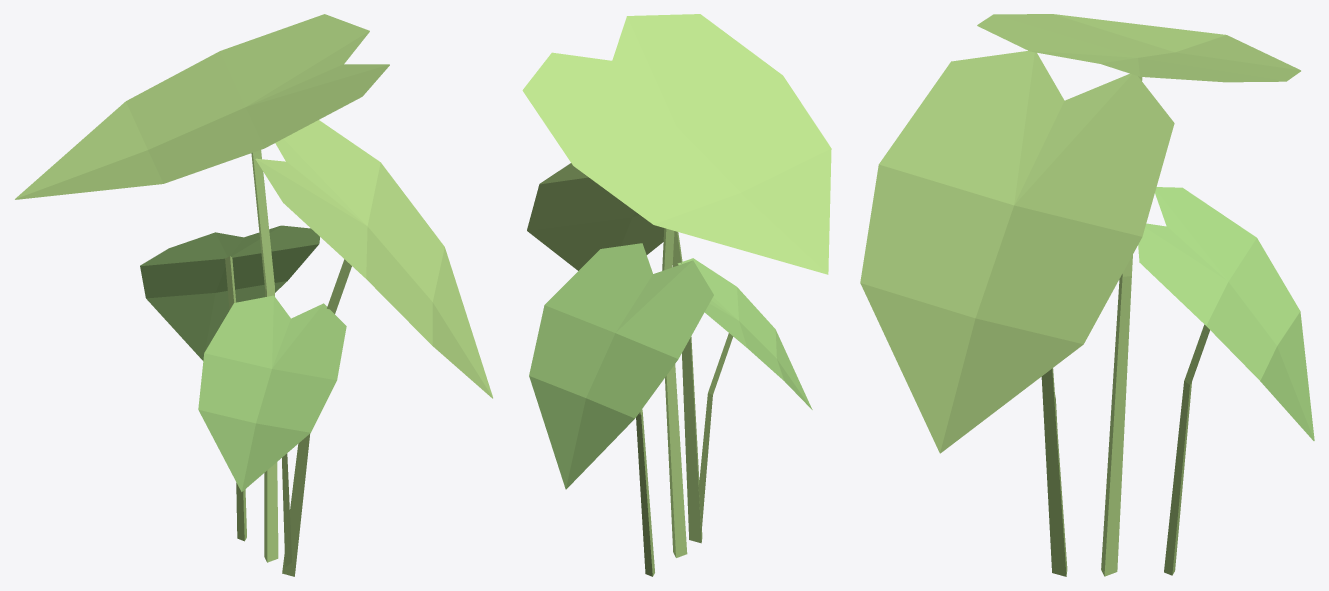
Rendered from Plant_d_TwoS_07.fbx.
3 renders of one model, left to right at view 1: azimuth 30°, elevation 25°; view 2: azimuth 150°, elevation 25°; view 3: azimuth 270°, elevation 25°, orthographic. The views are drawn at different scales.
Parts seen in each view (by area): view 1: Plant_d_TwoS_07; view 2: Plant_d_TwoS_07; view 3: Plant_d_TwoS_07.
Part boxes in pixels (<box>): Plant_d_TwoS_07: <box>15,14,492,576</box>; Plant_d_TwoS_07: <box>522,14,831,576</box>; Plant_d_TwoS_07: <box>860,14,1314,576</box>.
Size of the model in its own units: 0.6562 by 0.8507 by 0.6147.
